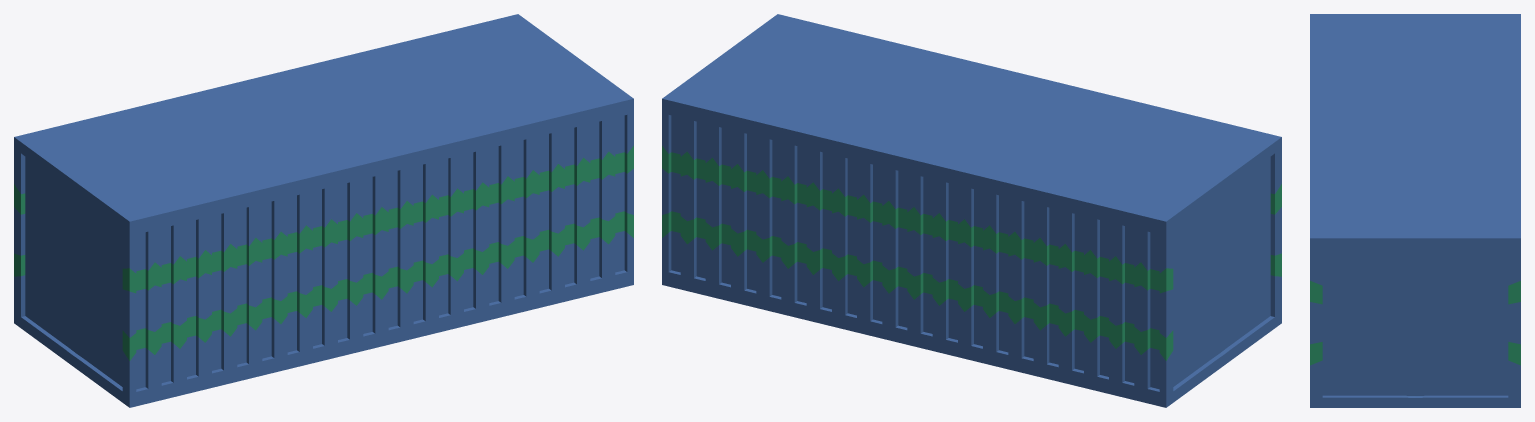
The model's file is LCargoModel02.fbx.
The picture shows the model from 3 angles, left to right: view 1: azimuth 30°, elevation 25°; view 2: azimuth 150°, elevation 25°; view 3: azimuth 270°, elevation 25°; orthographic projection. The views are drawn at different scales.
Parts seen in each view (by area): view 1: LCargoModel02; view 2: LCargoModel02; view 3: LCargoModel02.
Boxes of the visible parts, bbox=[...] form: LCargoModel02: bbox=[14, 14, 633, 407]; LCargoModel02: bbox=[662, 14, 1281, 407]; LCargoModel02: bbox=[1310, 14, 1520, 407].
Size of the model in its own units: 723 by 255 by 288.
